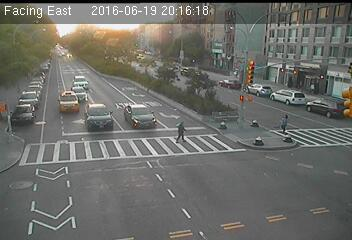neg: (47, 92, 69, 121), (37, 55, 55, 79), (2, 103, 19, 126), (58, 42, 72, 61)
pos: (169, 117, 193, 149), (275, 111, 296, 139)
